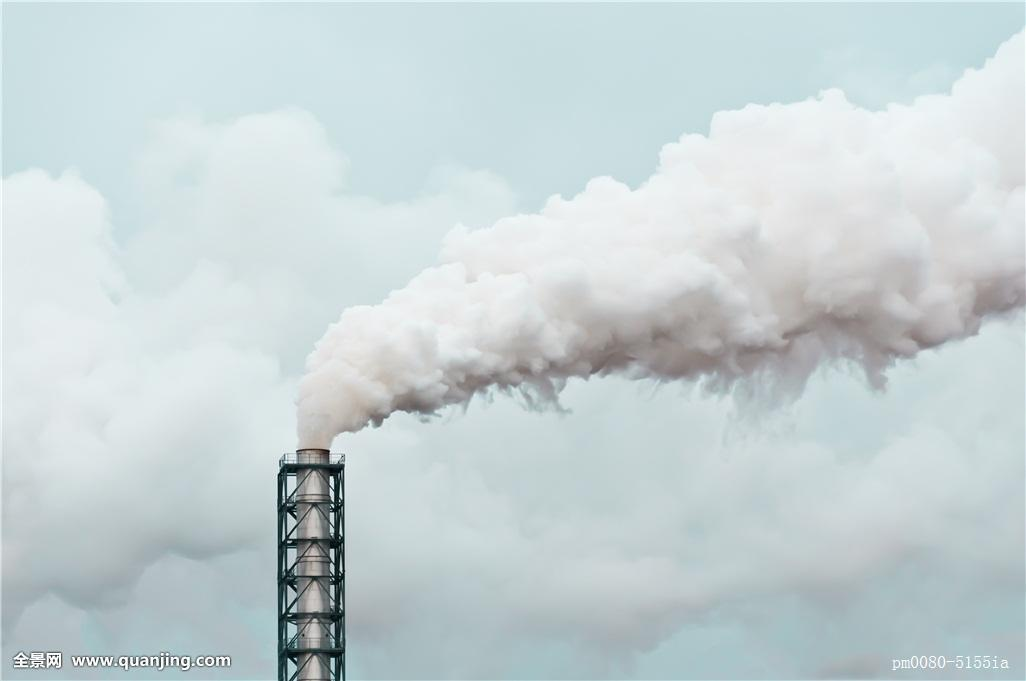dust: (266, 102, 798, 480)
